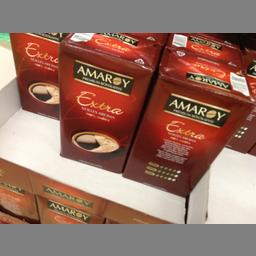coffee: (118, 46, 252, 196), (57, 34, 162, 172)
